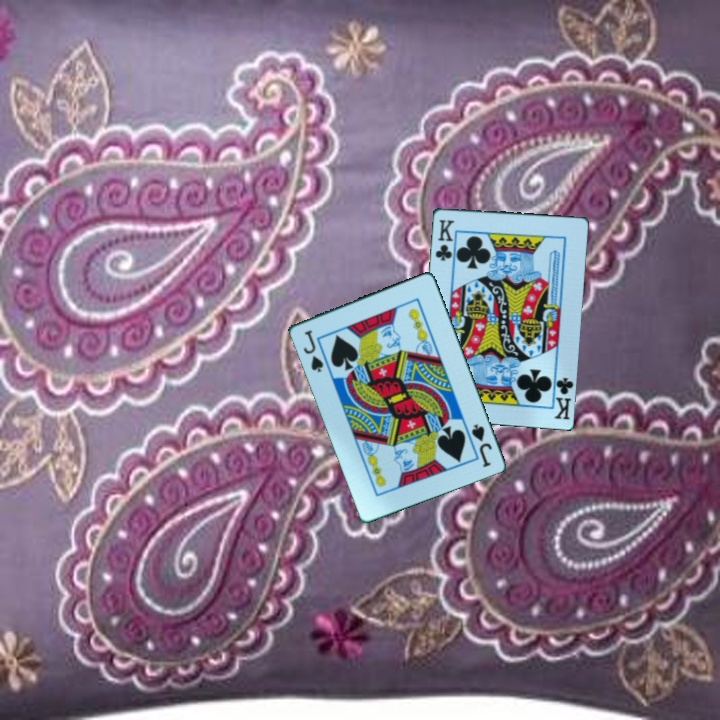Js: (467, 420, 495, 470), (299, 326, 326, 375)
Kc: (549, 368, 576, 422), (431, 216, 457, 264)
